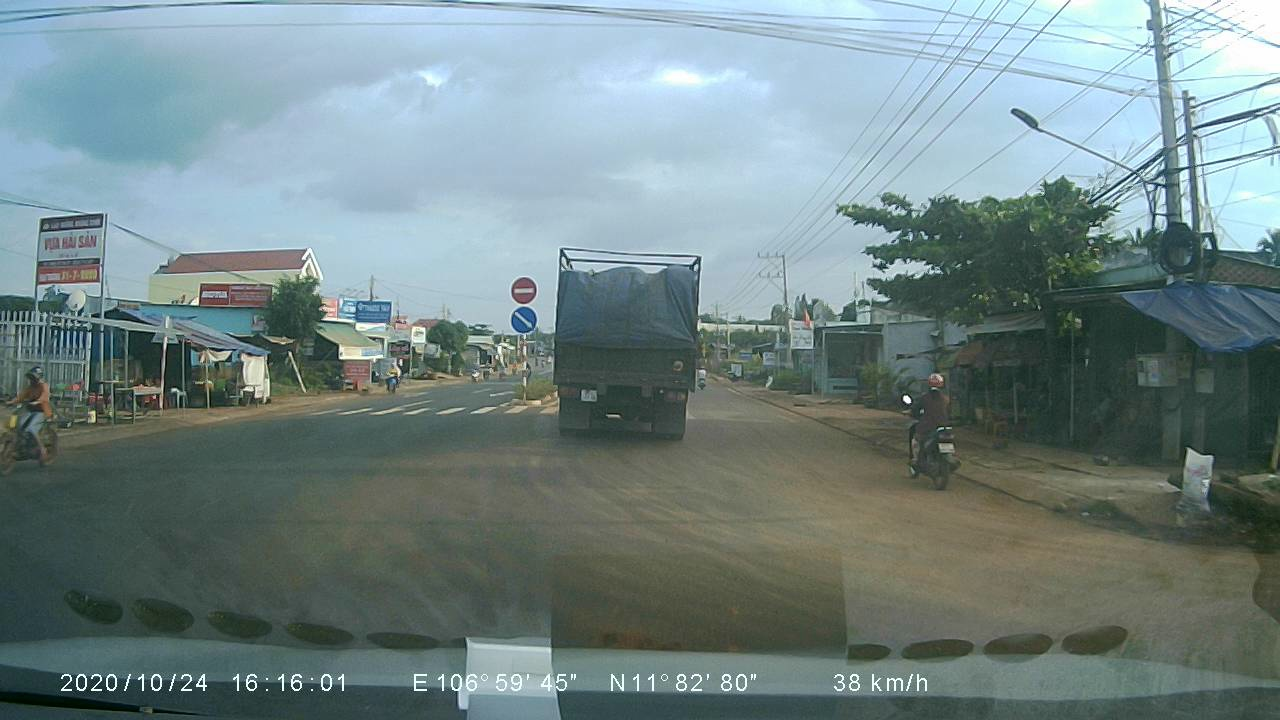Cam di nguoc chieu: (509, 273, 540, 304)
Huong di phai re phai: (508, 303, 540, 335)
